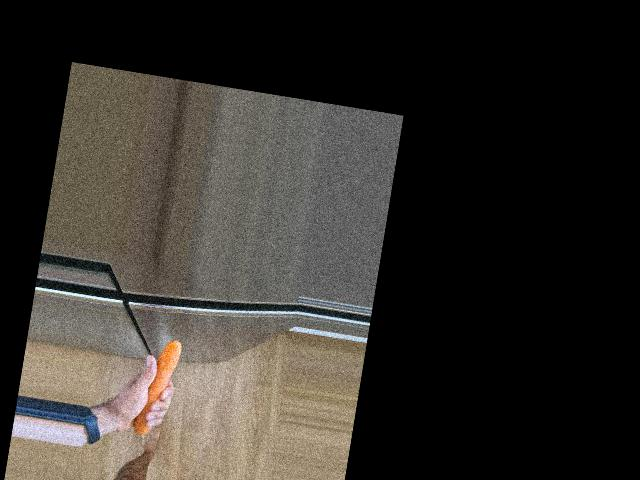carrot: (131, 337, 187, 440)
